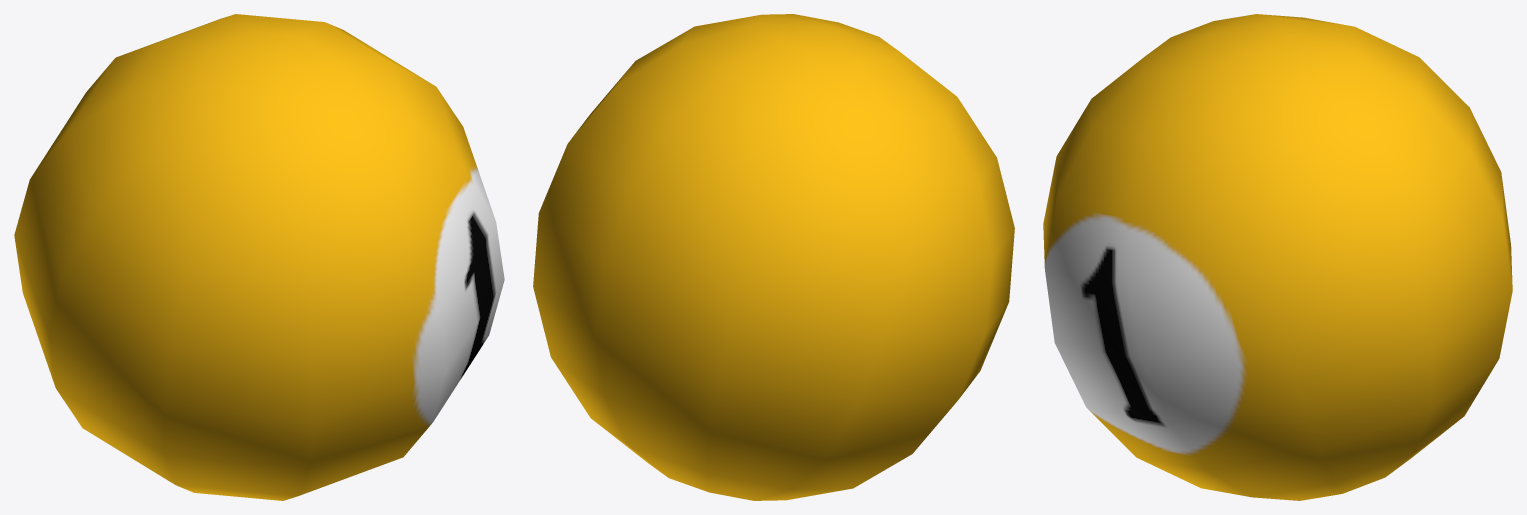
Rendered from Ball1.gltf.
3 views of the same model, side by side, from view 1: azimuth 30°, elevation 25°; view 2: azimuth 150°, elevation 25°; view 3: azimuth 270°, elevation 25° (orthographic).
Visible parts, largest first — view 1: Ball1_Material_#30_0; view 2: Ball1_Material_#30_0; view 3: Ball1_Material_#30_0.
Part boxes in pixels (bbox=[...]): Ball1_Material_#30_0: bbox=[14, 14, 504, 500]; Ball1_Material_#30_0: bbox=[533, 14, 1014, 500]; Ball1_Material_#30_0: bbox=[1043, 14, 1512, 500].
Size of the model in its own units: 5.75 by 5.78 by 5.54.
1 material, 1 textured.
